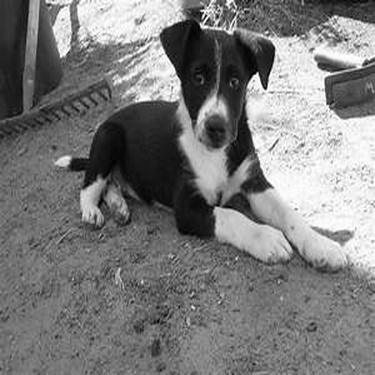dog: (44, 14, 354, 275)
